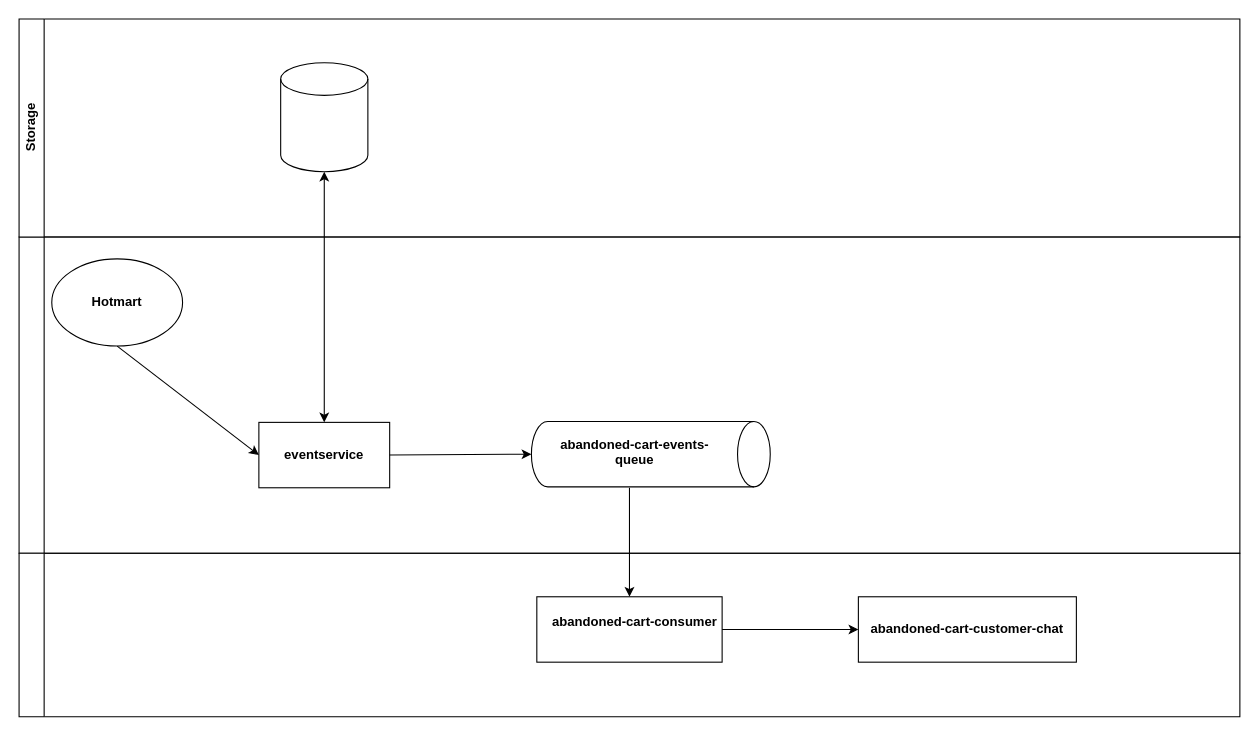
Image size: 1259x736. Some labels were removed from this diagram. The centre of each missing label's shape, as x and y in pixels:
"abadoned-cart-database" belongs at (x=324, y=117).
"Customer relation" belongs at (x=629, y=634).
"Main flow" belongs at (x=629, y=394).
